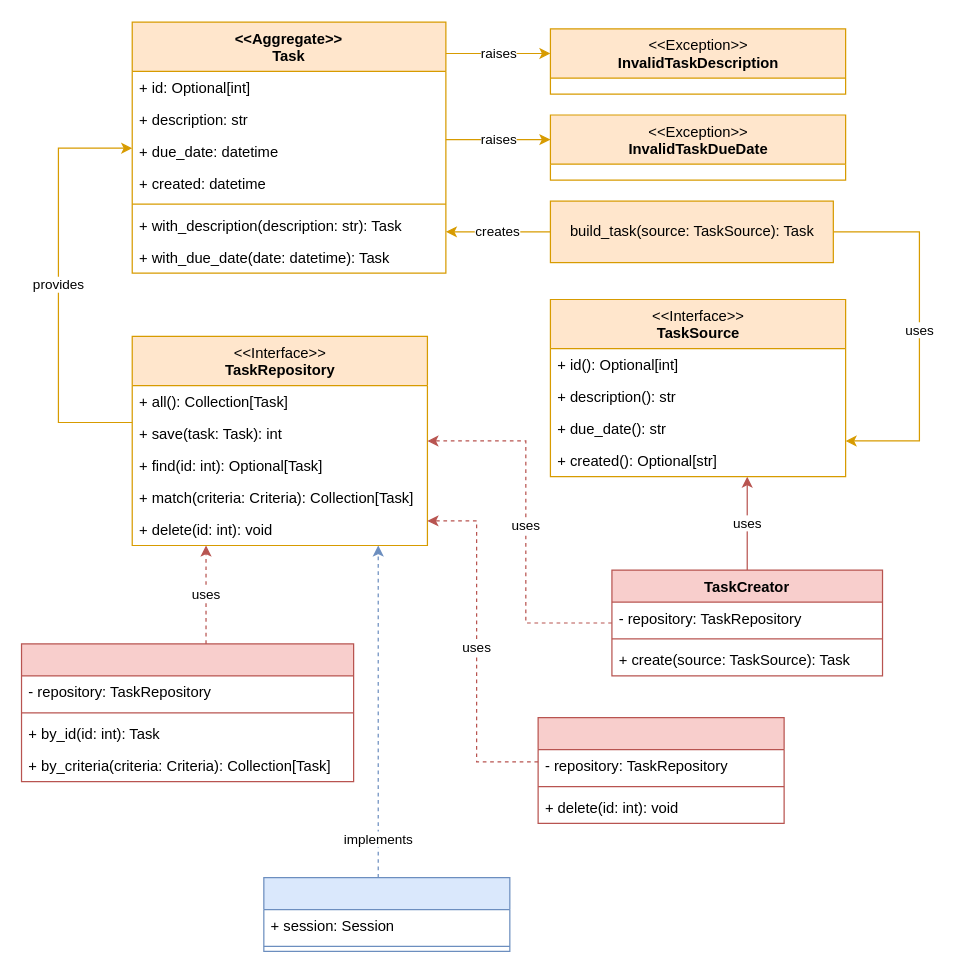
Some shapes in this 954 by 973 pixel diagram are drawn without their labels. Each missing label, with the box of its shape:
SQLTaskRepository: (263, 876, 510, 951)
TaskDeleter: (537, 716, 784, 823)
TaskFinder: (20, 643, 354, 782)
